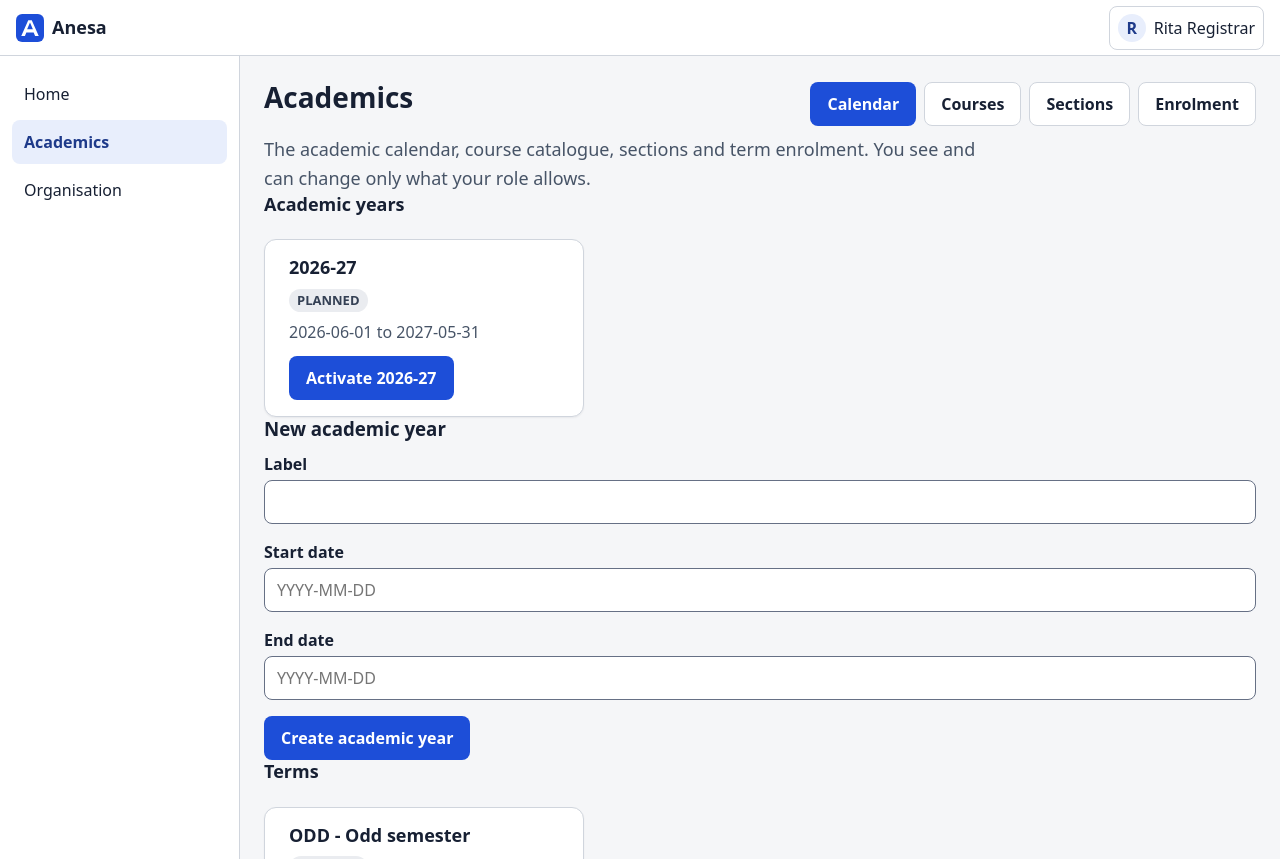
Academics page: courses and sections › creates a section for a cohort period and lists it
The image size is (1280, 859).
Click the button "Sections" at (1080, 104), box [1030,82,1130,126]
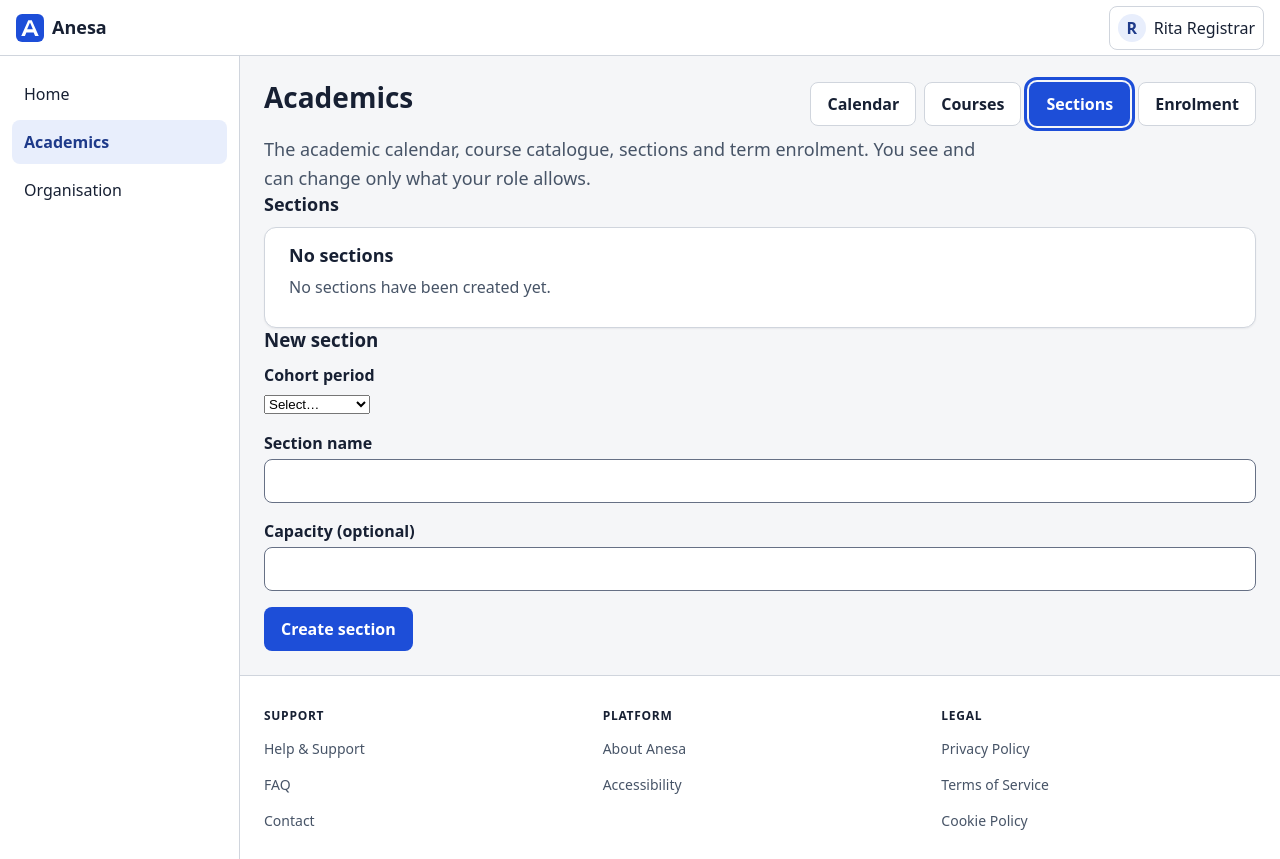
Result: the heading "No sections" is shown at [289,243,394,267]
Select "Period 1 (cp1)" in the dropdown labelled "Cohort period" at (317, 404), box [264,395,370,414]
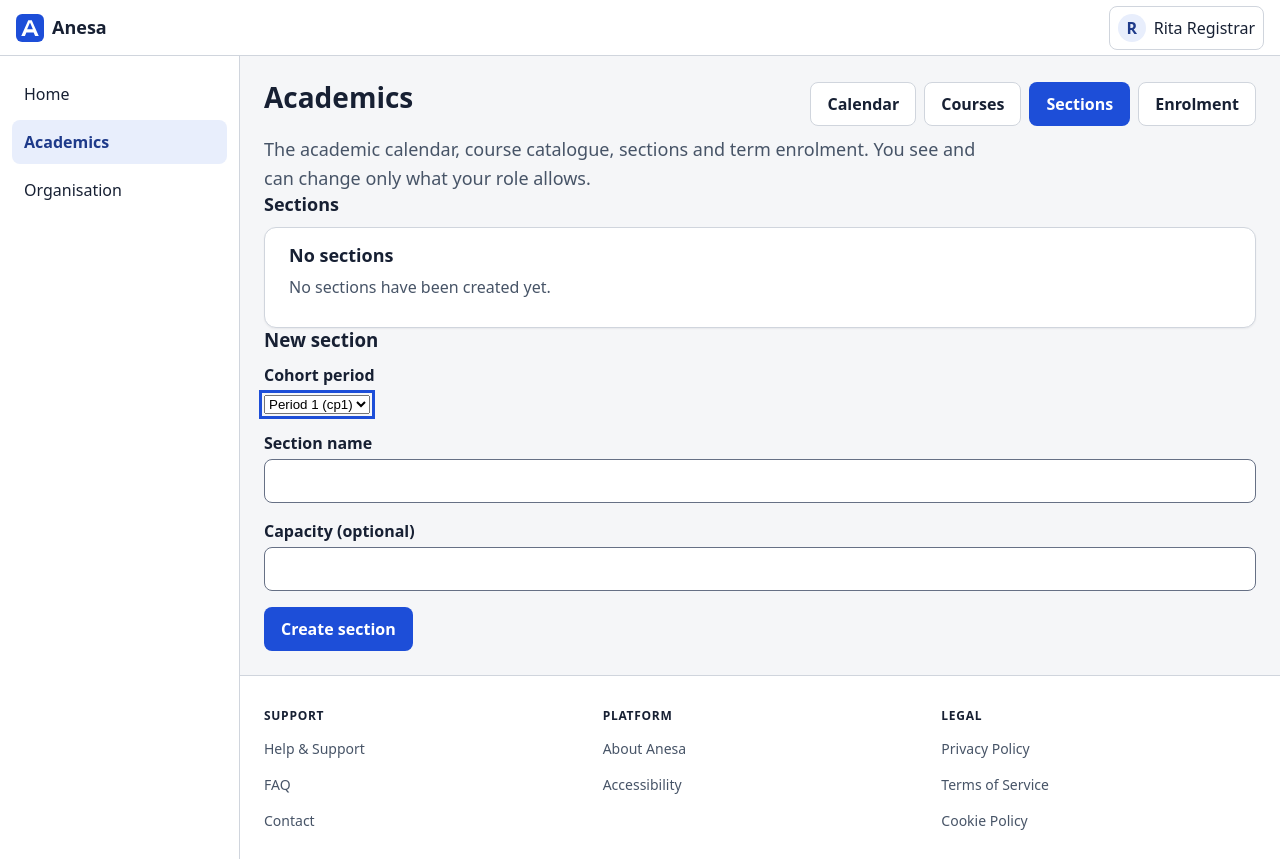
Type "A" into the field labelled "Section name" at (760, 481), box [264,459,1256,503]
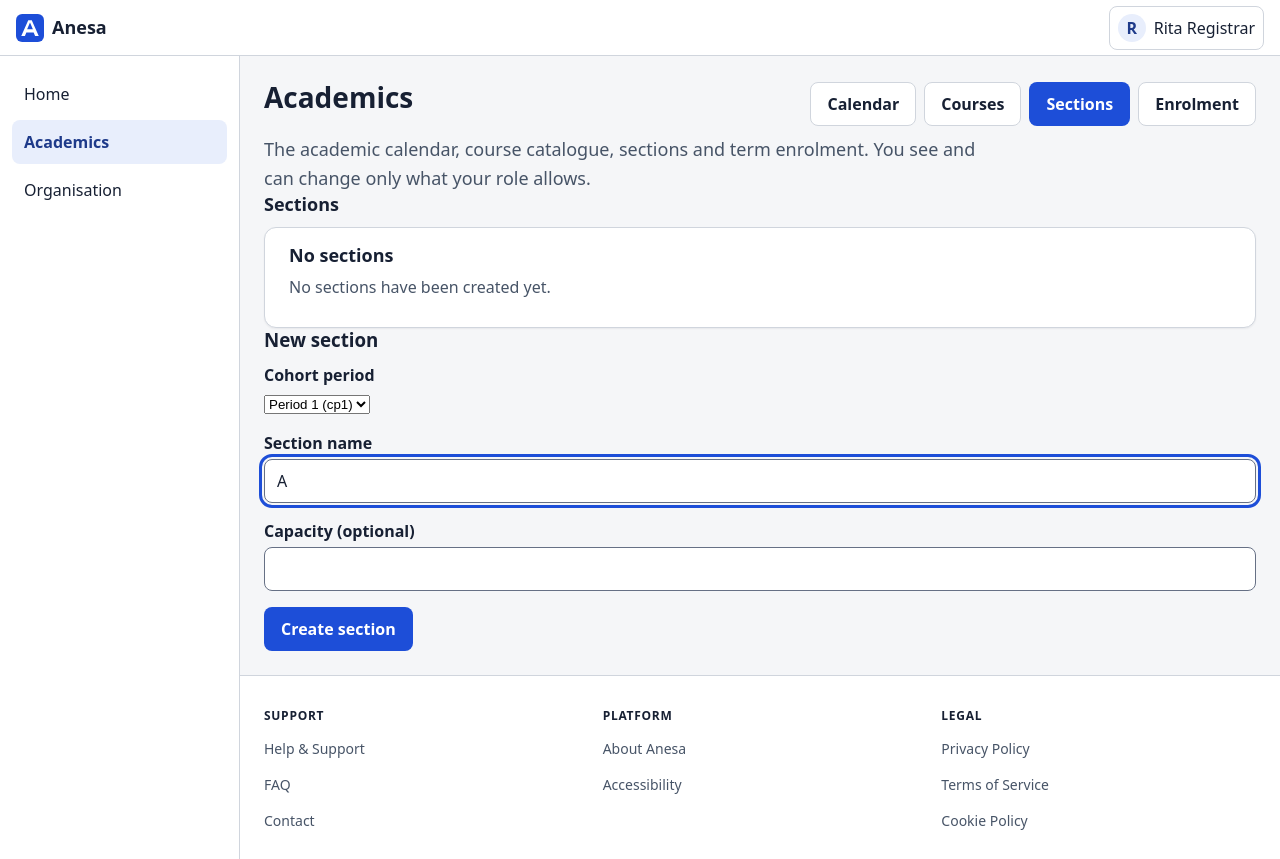
Type "60" into the field labelled "Capacity (optional)" at (760, 569), box [264,547,1256,591]
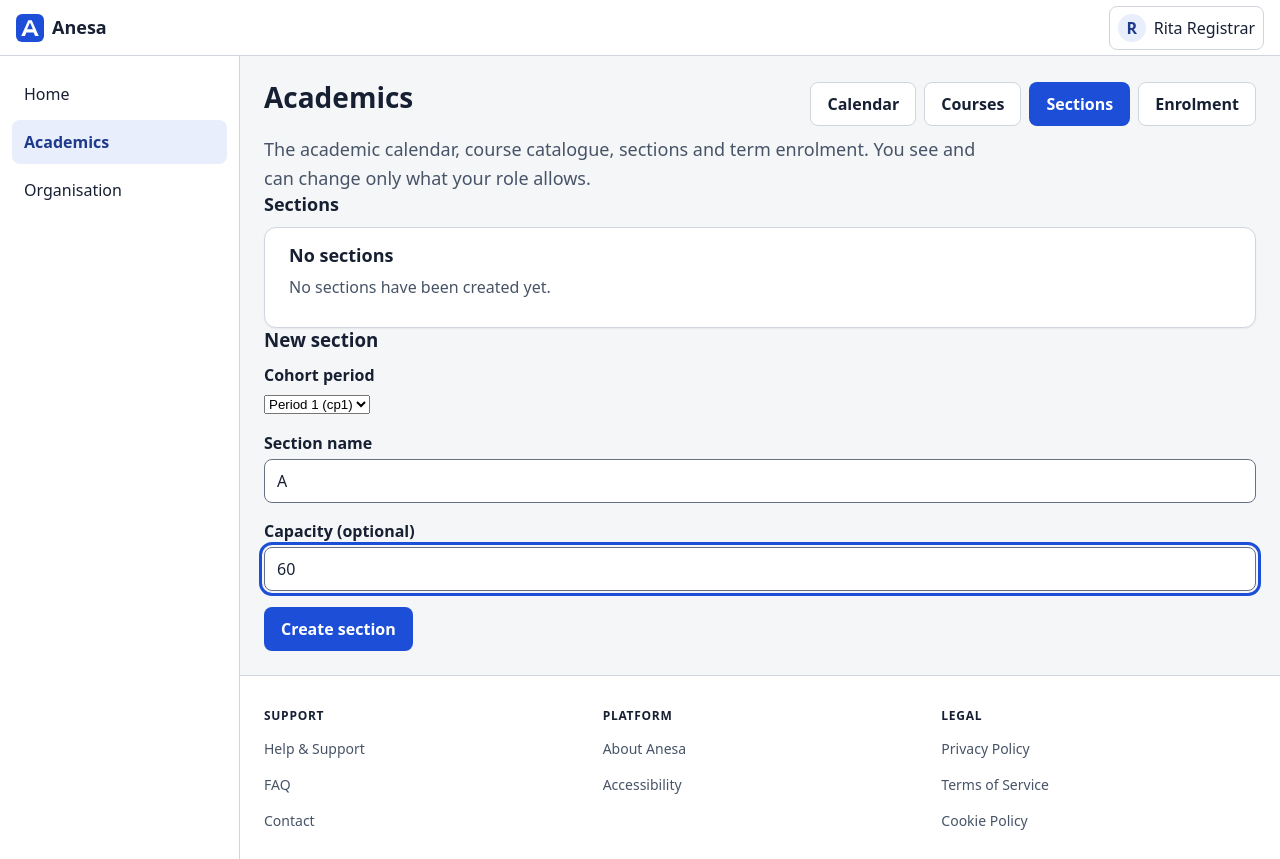
Click the button "Create section" at (338, 629), box [264,607,413,651]
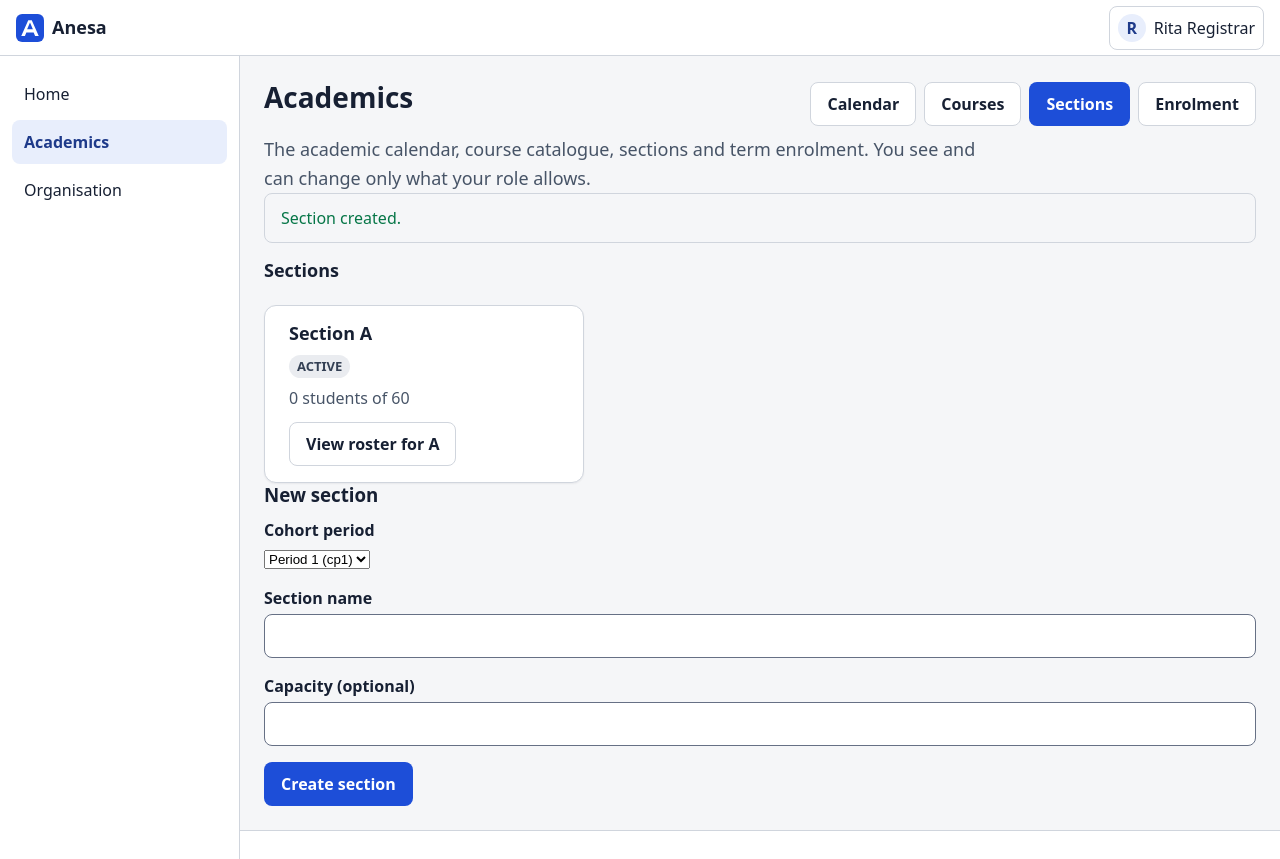
Result: the text "Section created." is shown at [264,193,1256,243]
Result: the heading "Section A" is shown at [289,321,372,345]
